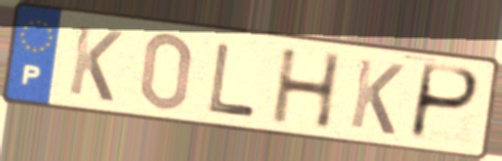0: (135, 30, 195, 113)
H: (270, 46, 345, 132)
K: (64, 21, 126, 105), (346, 55, 407, 138)
L: (206, 41, 259, 121)
P: (405, 61, 483, 145)
